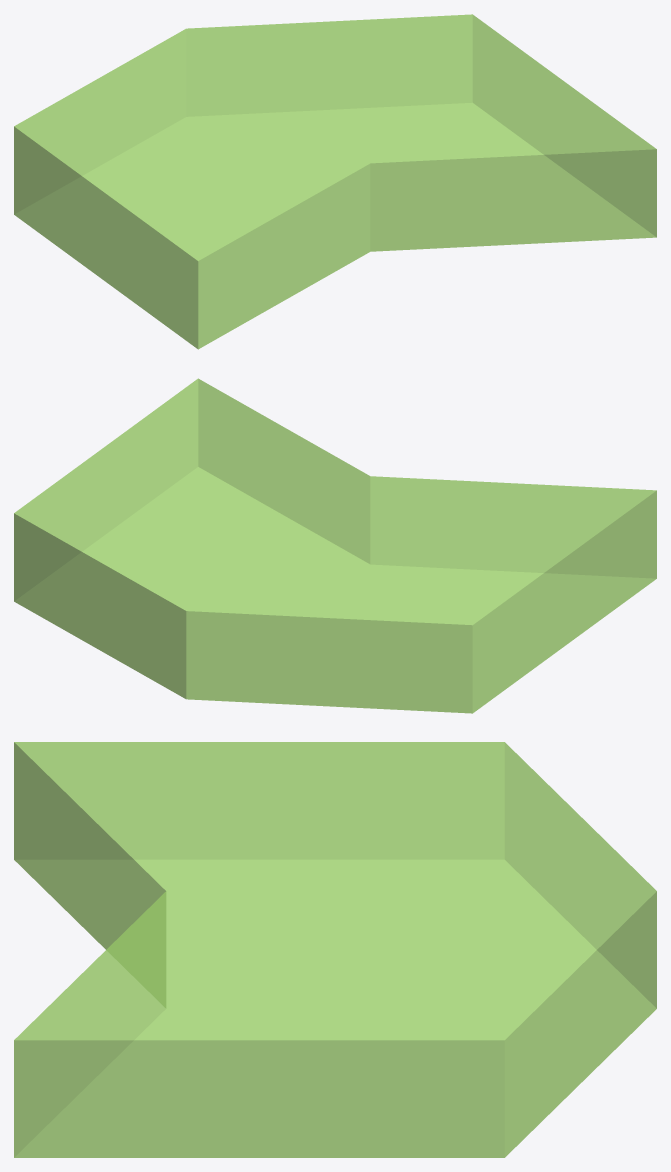
Rendered from Navigation.fbx.
The picture shows the model from 3 angles, top to bottom: view 1: azimuth 30°, elevation 25°; view 2: azimuth 150°, elevation 25°; view 3: azimuth 270°, elevation 25°; orthographic projection. The views are drawn at different scales.
Visible parts, largest first — view 1: pCube1; view 2: pCube1; view 3: pCube1.
Part boxes in pixels (x1,y1,x2,y2): pCube1: [14, 14, 656, 349]; pCube1: [14, 378, 656, 713]; pCube1: [14, 742, 656, 1157].
Size of the model in its own units: 25.56 by 4.7 by 23.29.
